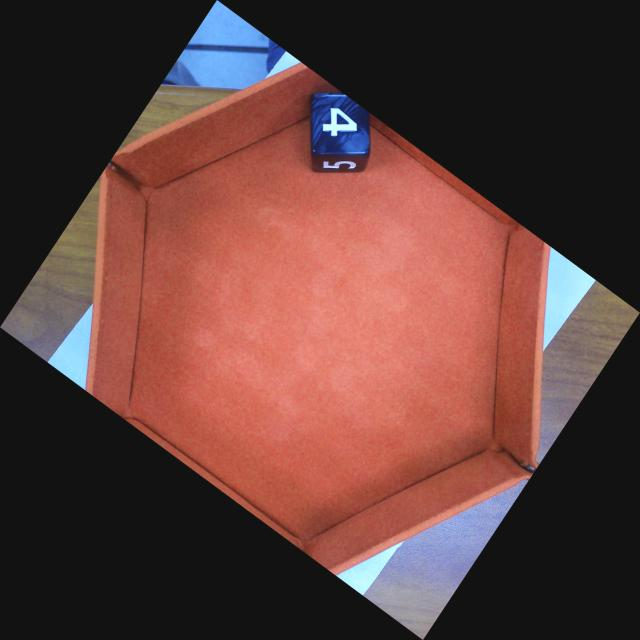dice: (318, 94, 368, 154)
